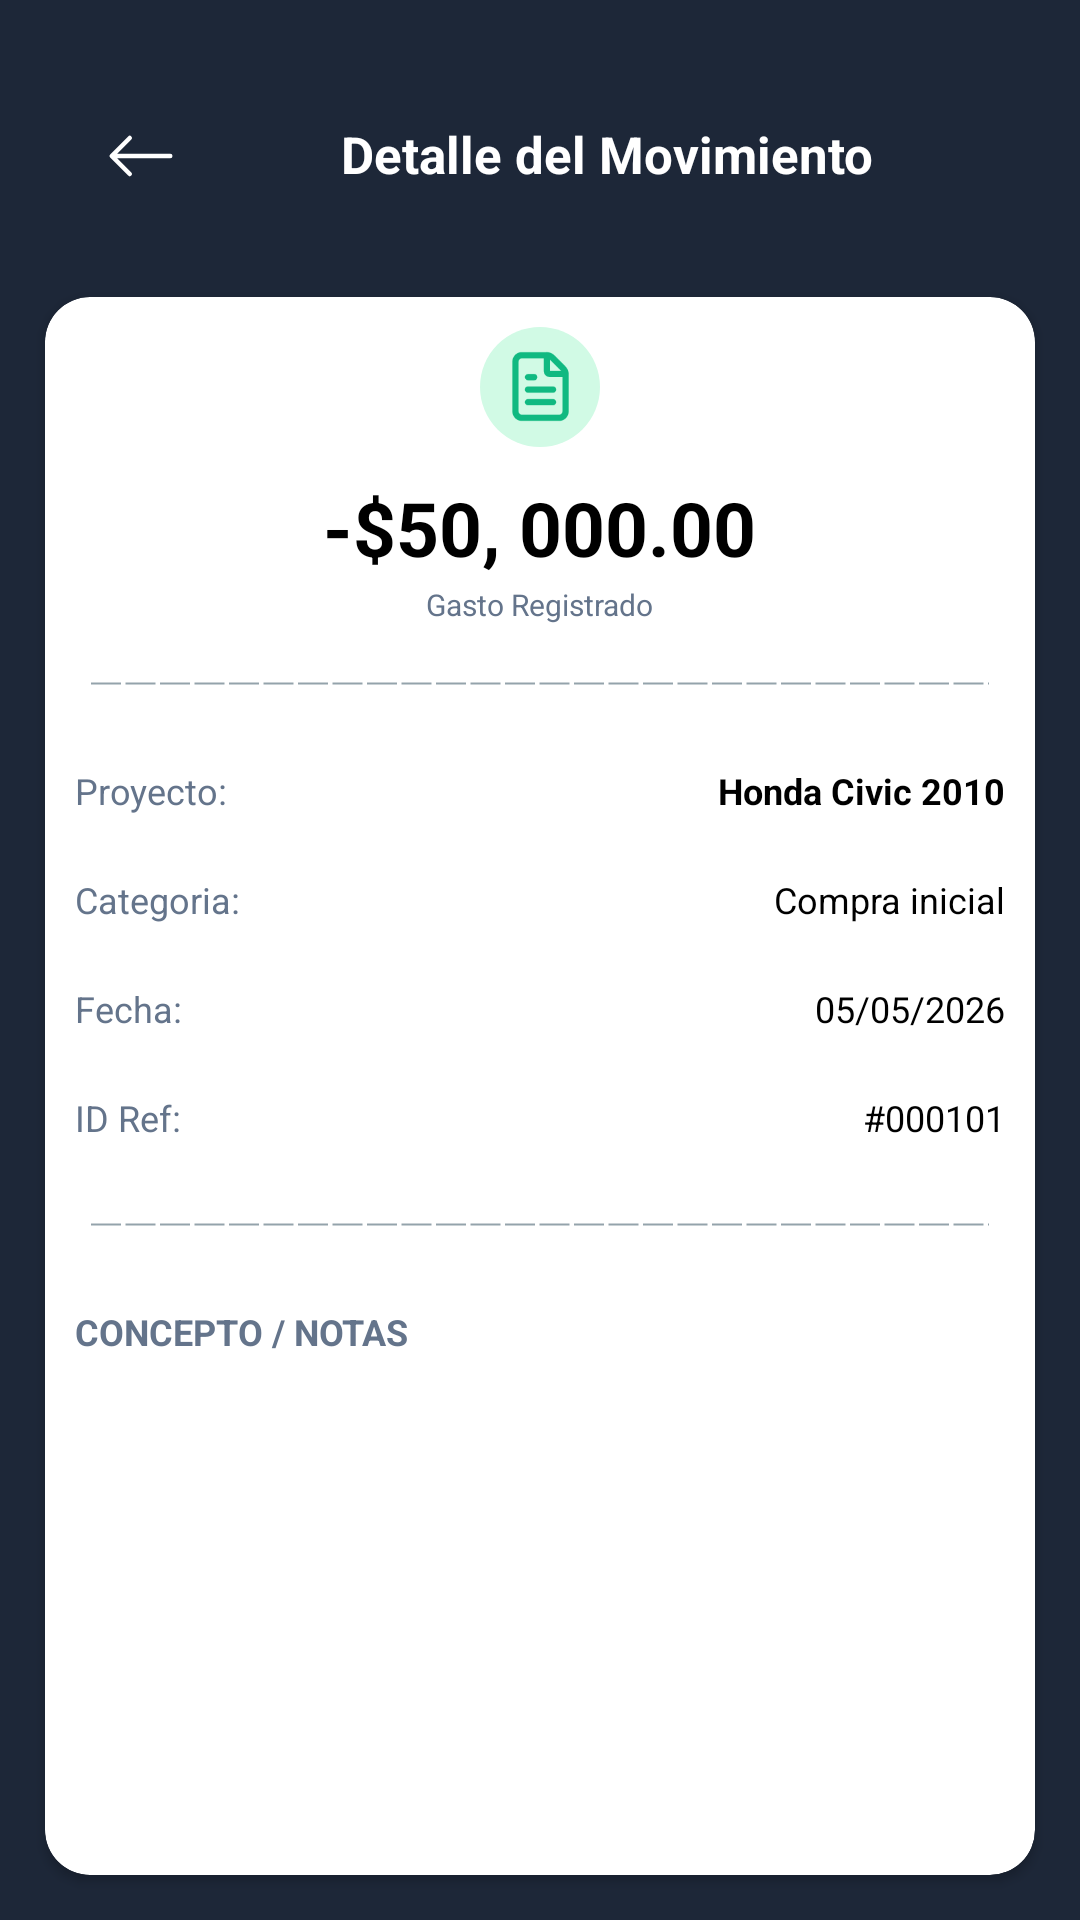

Icons on this 1080px x 1920px Android screen, each with the point to tap as [x,y]:
file text: [540,386]
leftarrow: [141,156]
